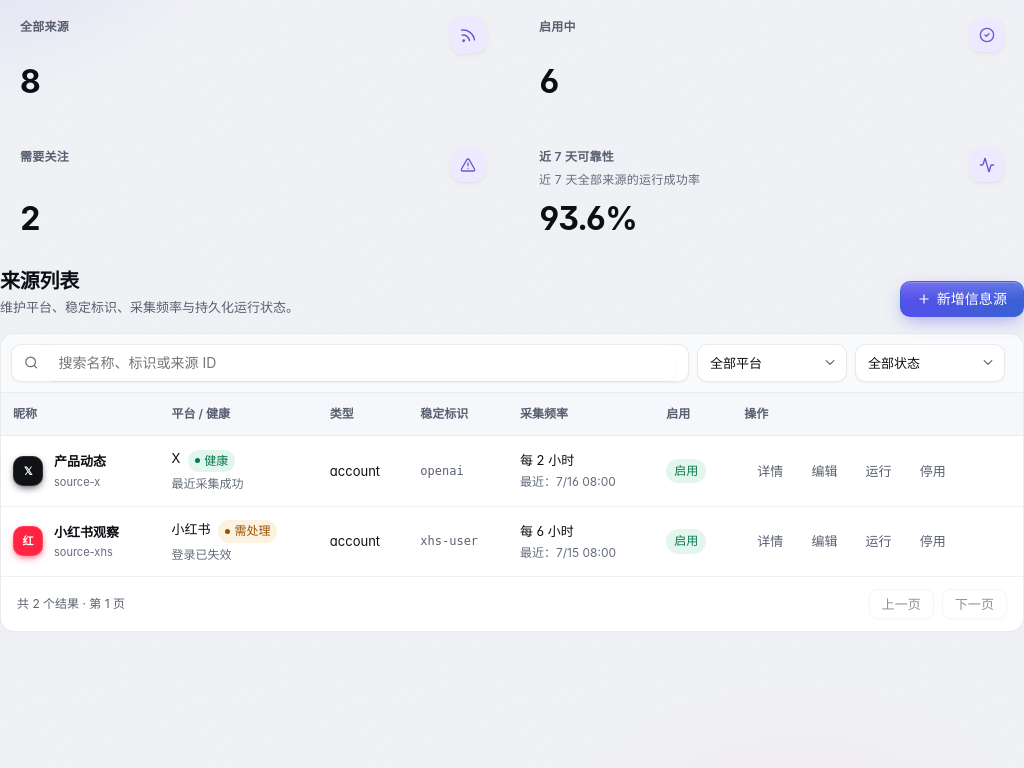
Test case: SourceManagementModule › applies Product Hunt type defaults when creating a source
Expected: the text "产品动态" is shown, [54,451,106,472]
Click the button "新增信息源": (962, 299) [900,281,1023,317]
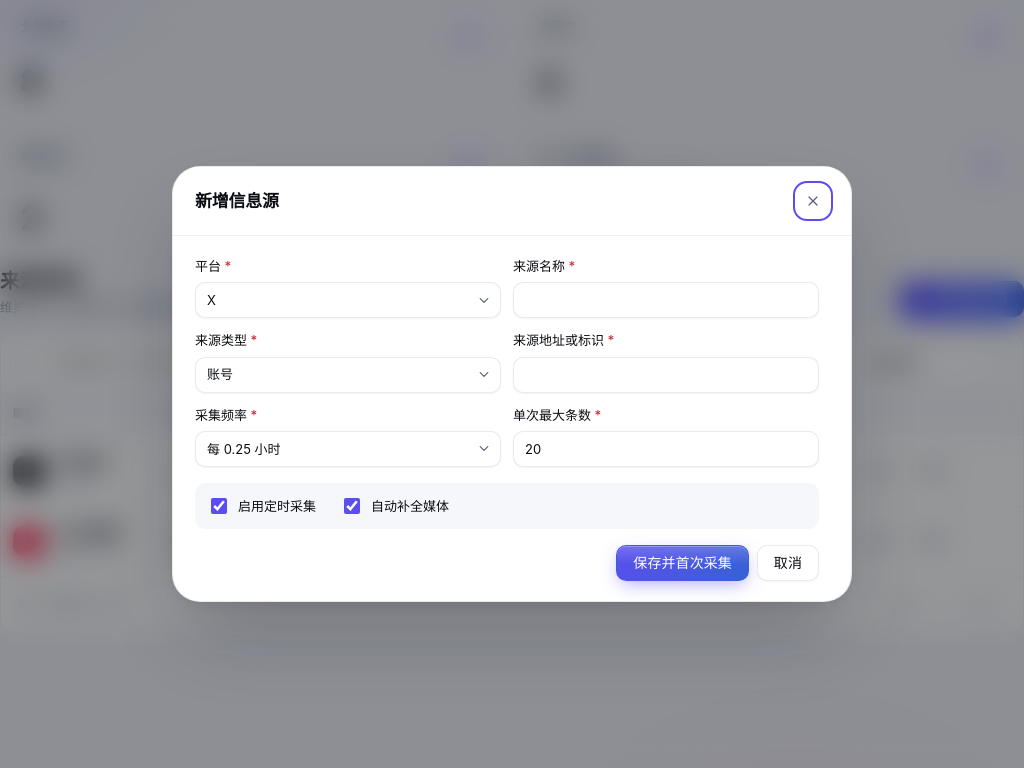
Select "Product Hunt" in the dropdown labelled "平台": (348, 300) [195,282,501,318]
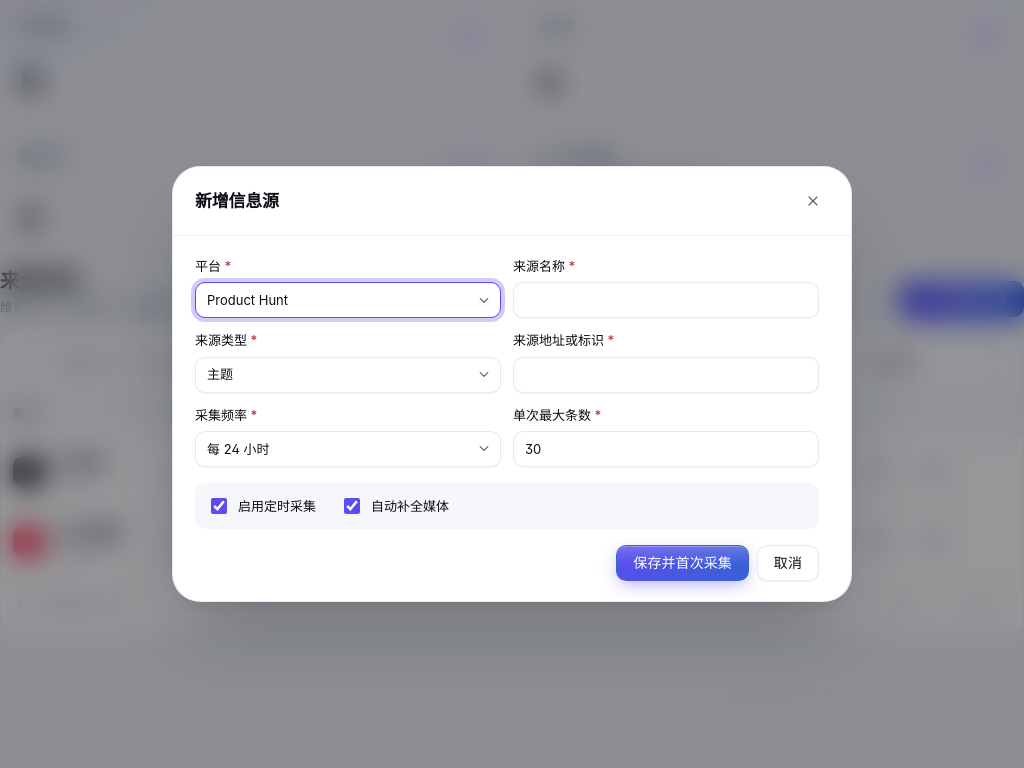
Result: the dropdown labelled "来源类型" shows "主题"
Result: the dropdown labelled "采集频率" shows "每 24 小时" at [195,431,501,467]
Result: the number field labelled "单次最大条数" holds "30" at [513,431,819,467]
Select "合集" in the dropdown labelled "来源类型": (348, 375) [195,357,501,393]
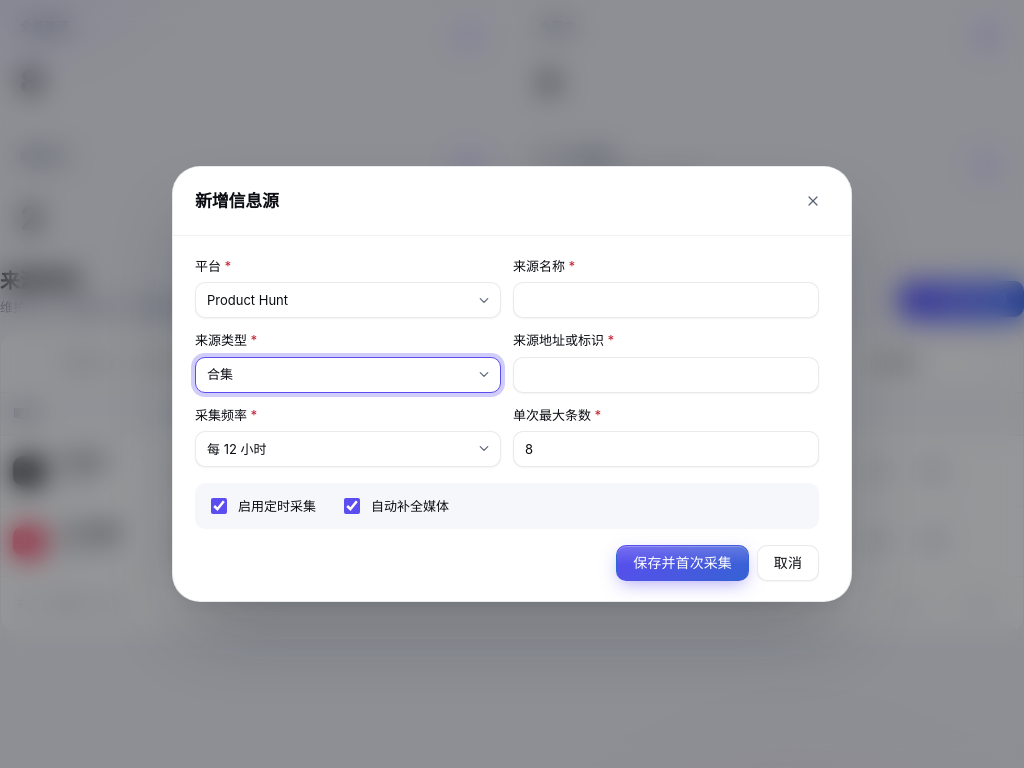
Result: the dropdown labelled "采集频率" shows "每 12 小时" at [195,431,501,467]
Result: the number field labelled "单次最大条数" holds "8" at [513,431,819,467]
